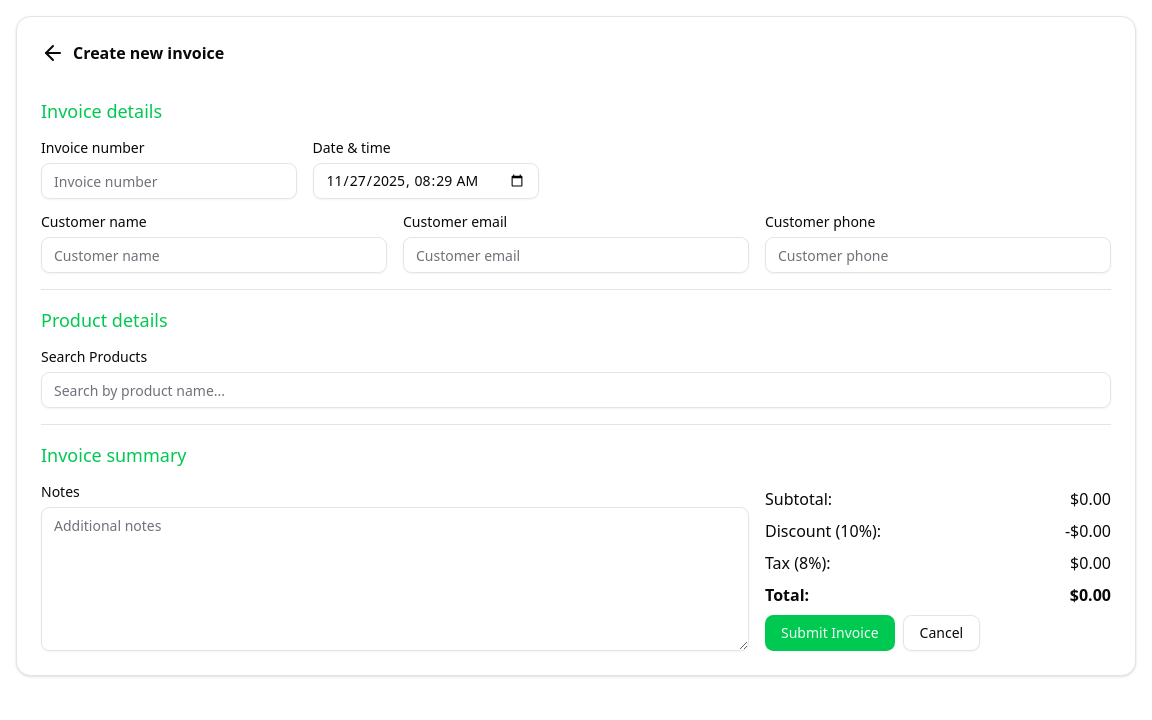
it: New Sale page › shows validation errors when required fields are missing
Click the button "Submit Invoice": (830, 633) [765,615,895,651]
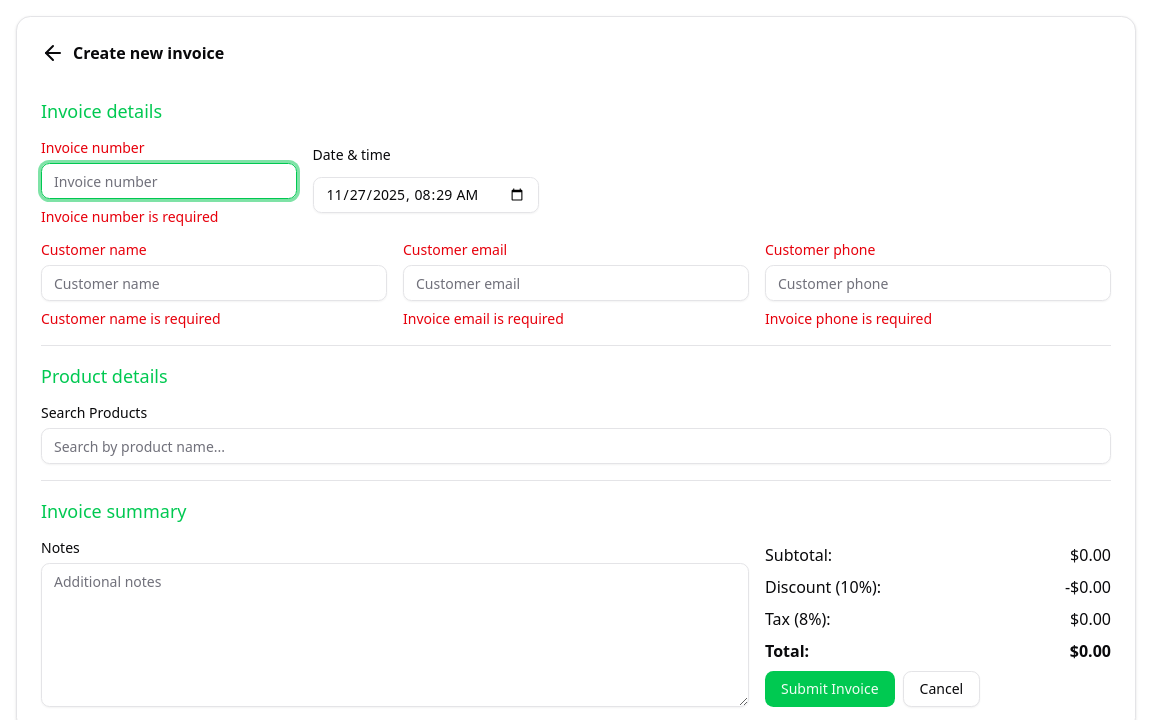
Now the text "Customer name is required" is shown, box [41,309,220,328]
Now the text "Invoice number is required" is shown, box [41,207,218,226]
Now the text "Invoice phone is required" is shown, box [765,309,932,328]
